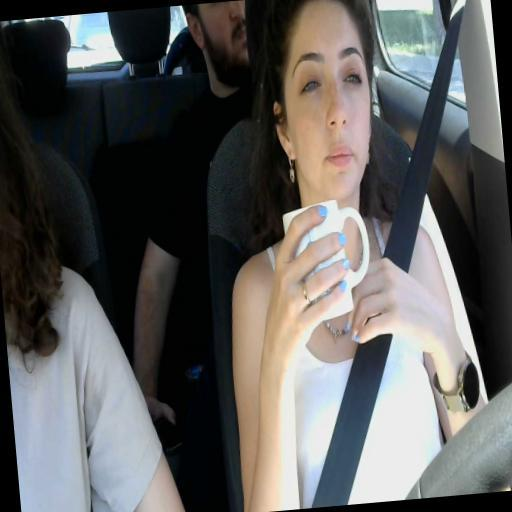Drinking: (268, 0, 374, 337)
